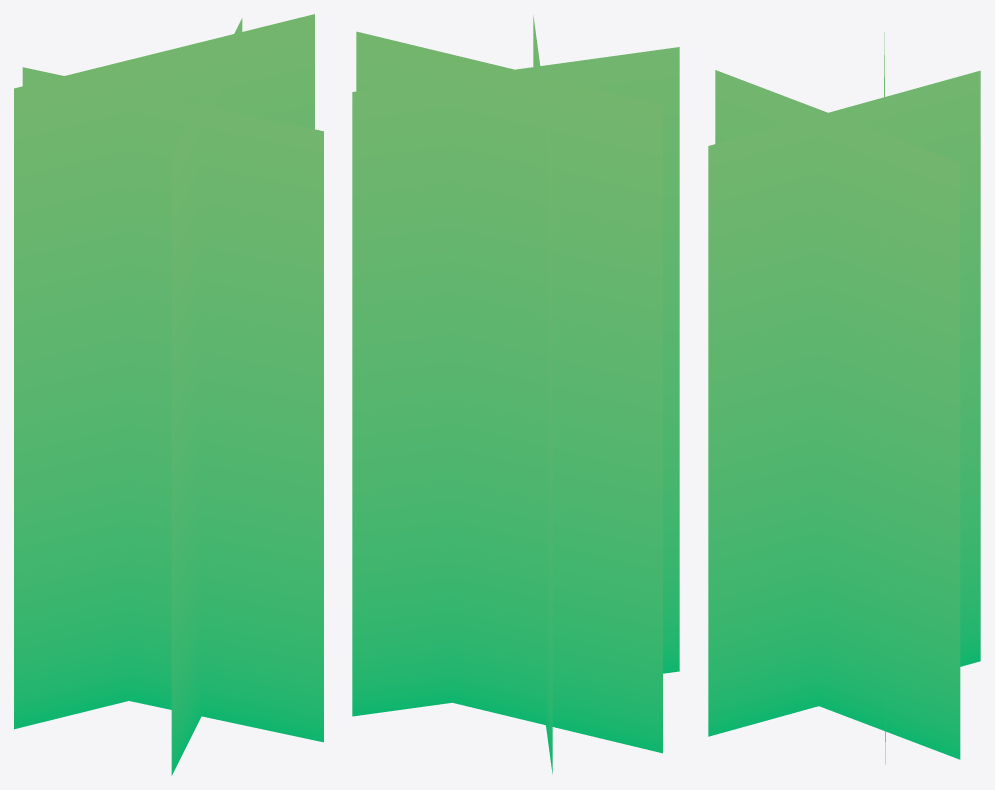
Rendered from Grass_1.0m_A_02.fbx.
3 renders of one model, left to right at view 1: azimuth 30°, elevation 25°; view 2: azimuth 150°, elevation 25°; view 3: azimuth 270°, elevation 25°, orthographic. The views are drawn at different scales.
Visible parts, largest first — view 1: Grass_1.0m_A_02; view 2: Grass_1.0m_A_02; view 3: Grass_1.0m_A_02.
Part boxes in pixels (x1,y1,x2,y2): Grass_1.0m_A_02: [14, 14, 323, 775]; Grass_1.0m_A_02: [352, 15, 679, 773]; Grass_1.0m_A_02: [708, 32, 980, 764].
Bounding box in the file's own units: 0.4872 × 0.9881 × 0.3939.
